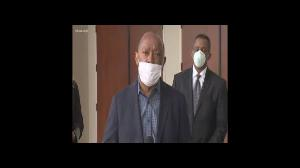mask_weared_incorrect: (139, 41, 162, 86)
with_mask: (193, 44, 206, 68)
